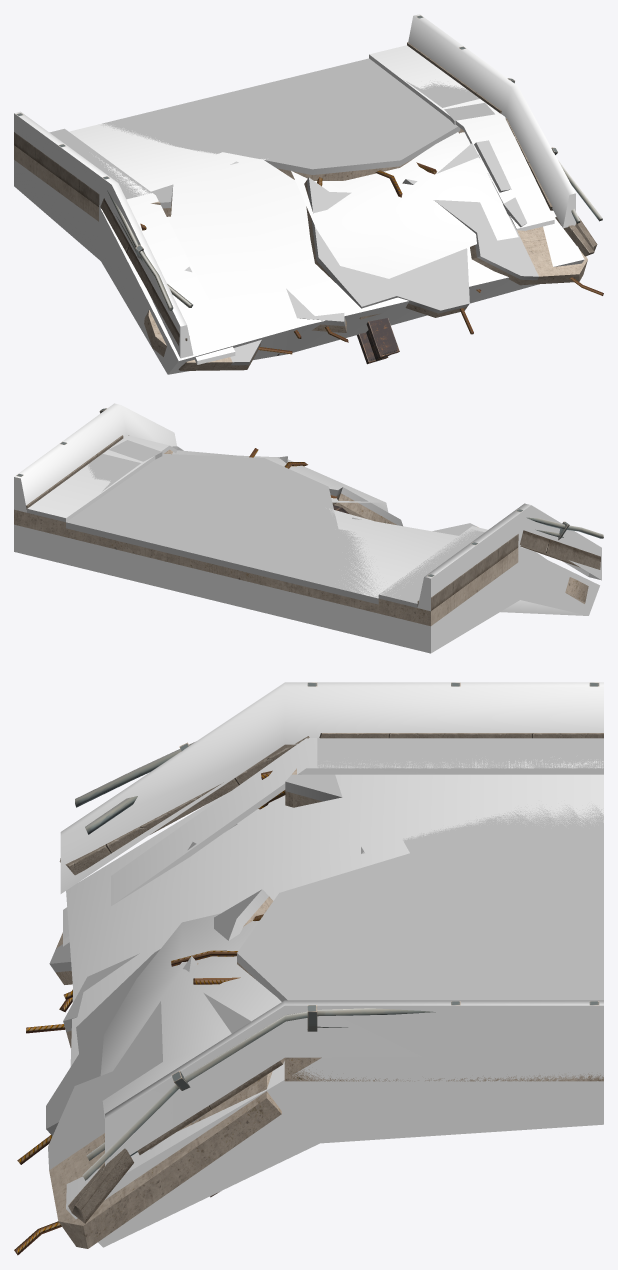
The model's file is street_overpass_C.fbx.
3 renders of one model, top to bottom at view 1: azimuth 30°, elevation 25°; view 2: azimuth 150°, elevation 25°; view 3: azimuth 270°, elevation 25°, orthographic. The views are drawn at different scales.
Parts seen in each view (by area): view 1: street_overpass_C_COL, street_overpass_C; view 2: street_overpass_C, street_overpass_C_COL; view 3: street_overpass_C_COL, street_overpass_C.
Boxes of the visible parts, x1,y1,x2,y2 form: street_overpass_C_COL: [14, 14, 584, 374]; street_overpass_C: [14, 15, 603, 370]; street_overpass_C: [14, 408, 603, 626]; street_overpass_C_COL: [14, 403, 601, 653]; street_overpass_C_COL: [60, 682, 603, 1247]; street_overpass_C: [14, 682, 603, 1255].
Bounding box in the file's own units: 1722 × 707 × 1234.
